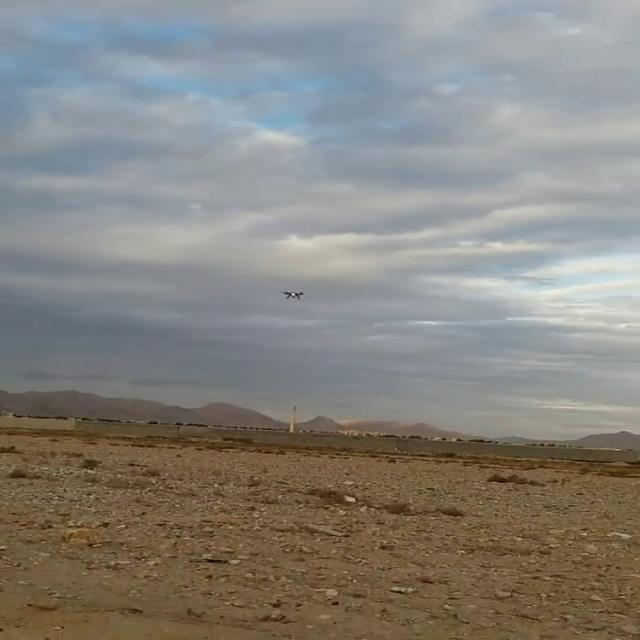drone: (278, 287, 308, 302)
